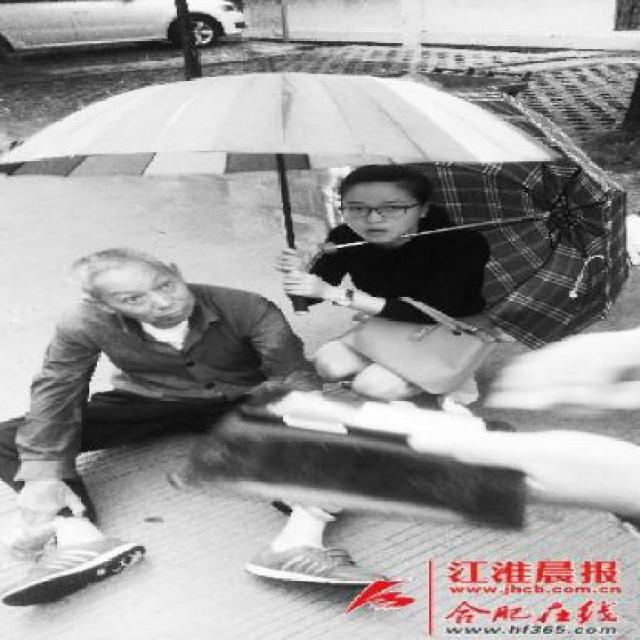fall: (0, 229, 638, 607)
